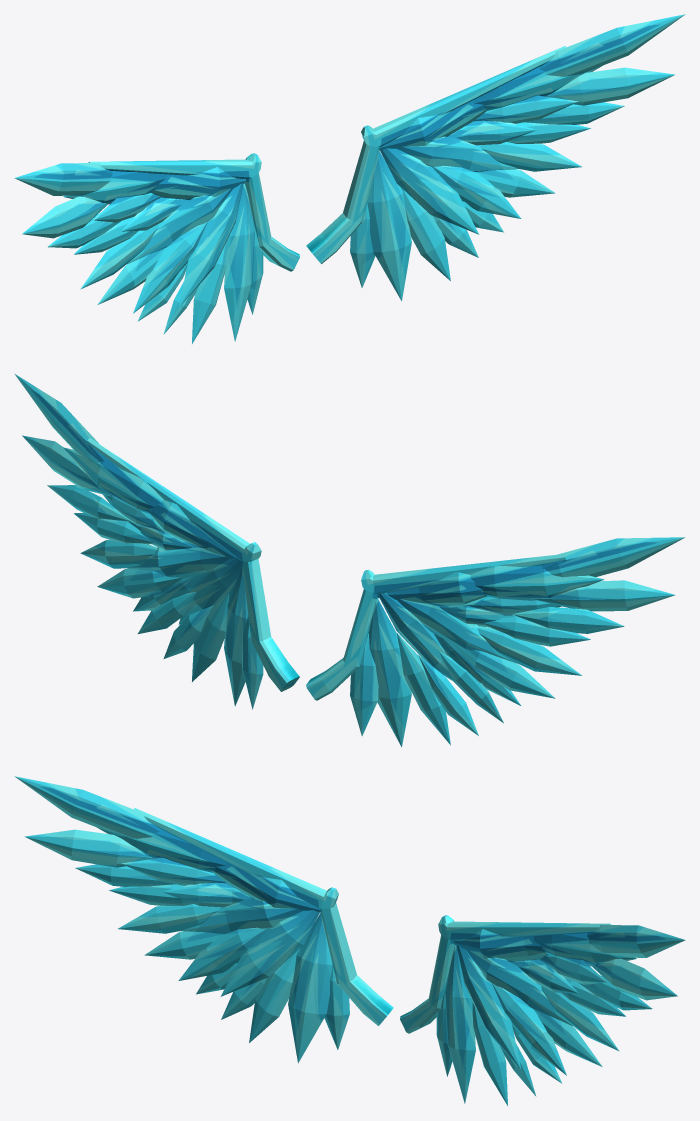
Rendered from wing_diamond.fbx.
The picture shows the model from 3 angles, top to bottom: view 1: azimuth 30°, elevation 25°; view 2: azimuth 150°, elevation 25°; view 3: azimuth 330°, elevation 25°; orthographic projection.
Visible parts, largest first — view 1: wing_diamond; view 2: wing_diamond; view 3: wing_diamond.
Boxes of the visible parts, bbox=[...] form: wing_diamond: bbox=[14, 14, 685, 343]; wing_diamond: bbox=[14, 373, 684, 747]; wing_diamond: bbox=[14, 776, 685, 1105].
Size of the model in its own units: 10.7 by 3.79 by 1.47.
